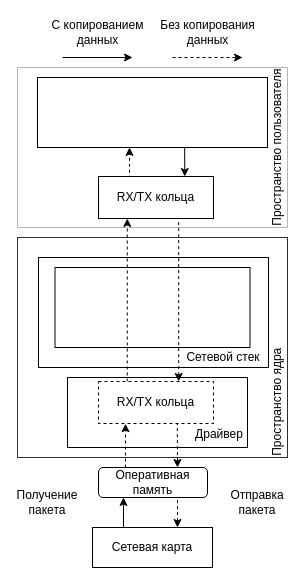
The diagram is 305 pixels wide and 585 high, and some of its shapes have lost their labels. Here are the shapes that lost their labels. From the top down, the centre of each, then its label:
At pixel 152 112: "Программа".
At pixel 152 307: "AF_XDP".
